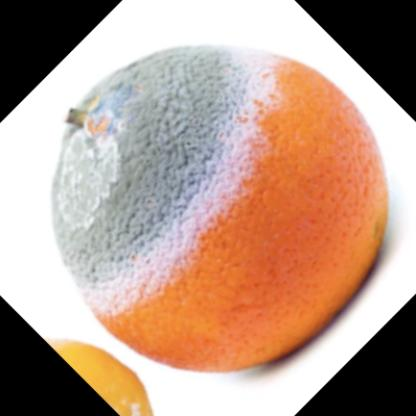rotten: (55, 45, 386, 372)
